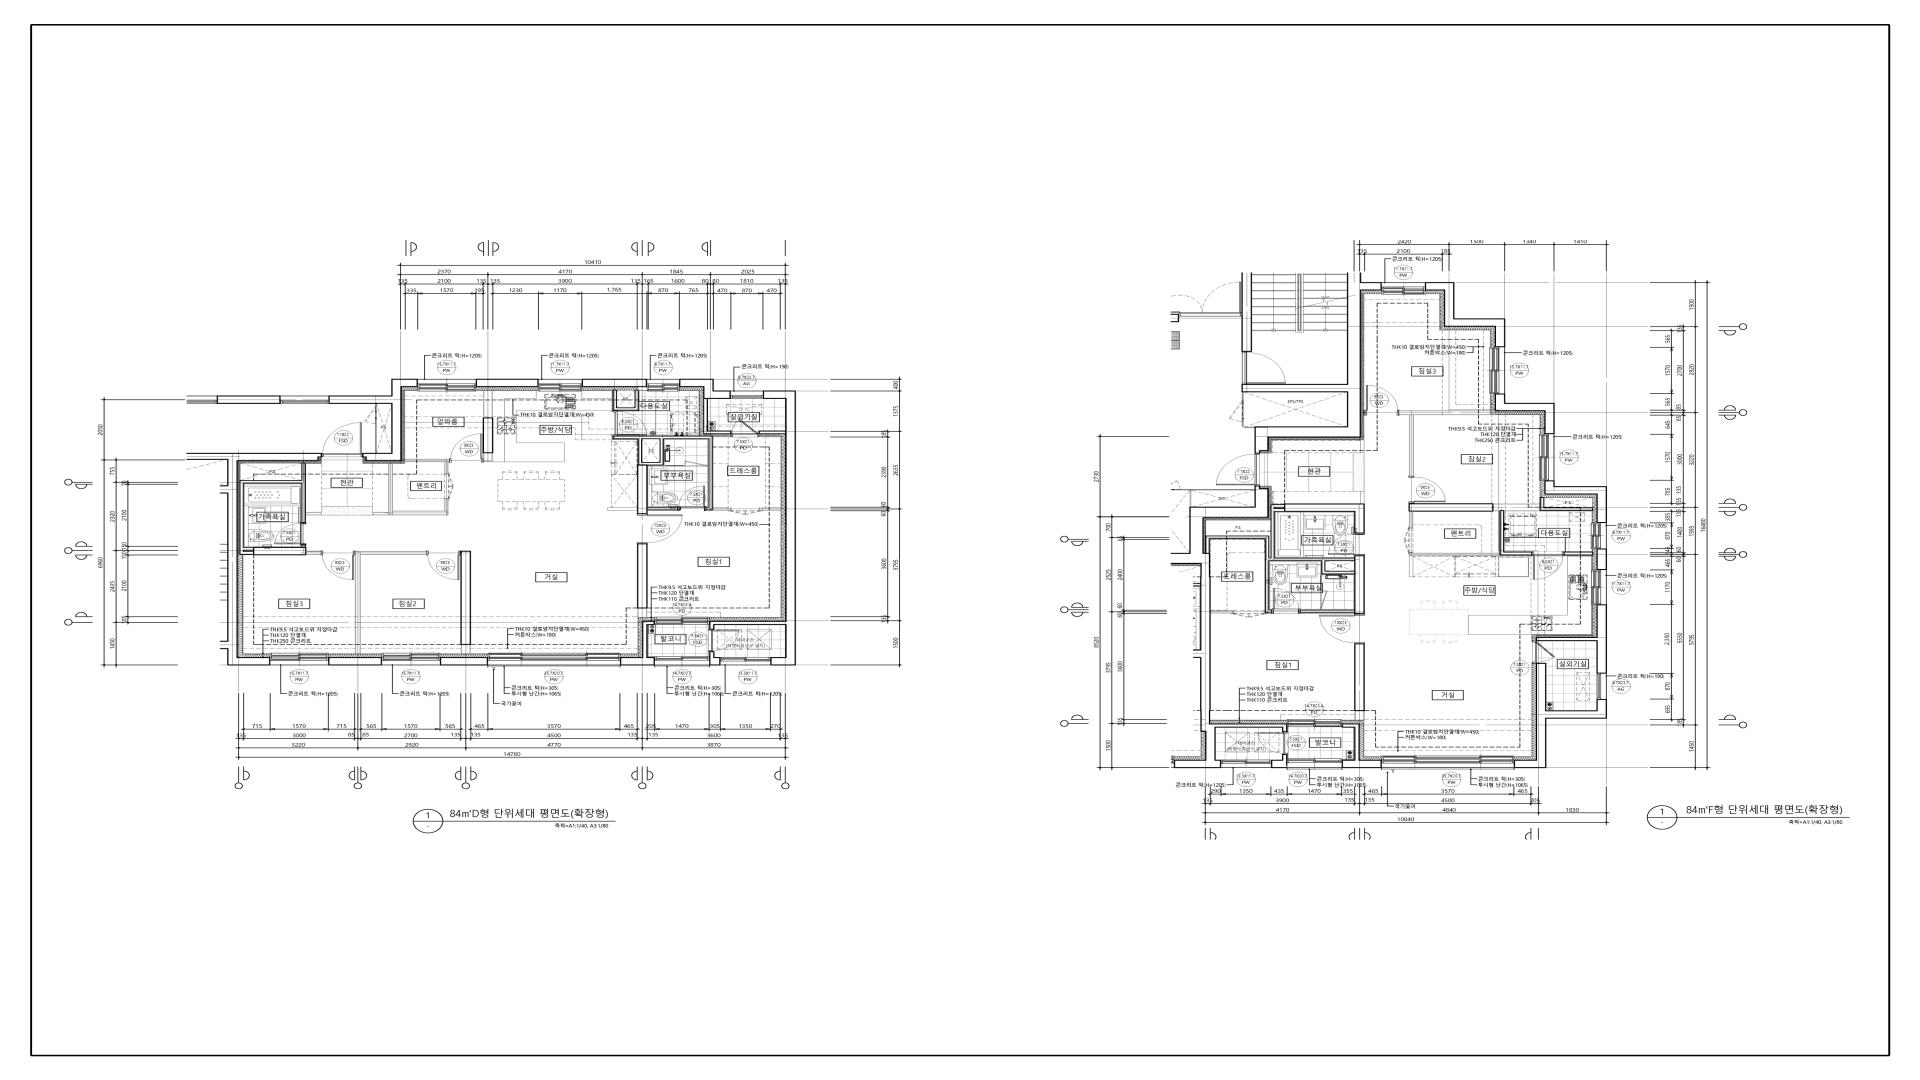door: (1179, 282, 1242, 316), (637, 513, 683, 545), (322, 422, 363, 458), (1216, 454, 1259, 485), (1242, 352, 1286, 384), (1319, 615, 1365, 644), (1365, 385, 1399, 415), (1408, 476, 1445, 504), (427, 551, 460, 580), (450, 434, 483, 463), (322, 551, 355, 580), (1532, 551, 1564, 580), (612, 411, 647, 436), (1328, 534, 1365, 555), (1271, 588, 1300, 615), (678, 485, 705, 512), (709, 629, 741, 651), (274, 522, 306, 545), (1257, 732, 1287, 754), (1532, 641, 1555, 663), (731, 419, 760, 436), (1229, 401, 1244, 422), (1403, 527, 1414, 553), (729, 508, 762, 516), (1233, 611, 1265, 618), (444, 473, 454, 498), (684, 460, 707, 467), (1320, 591, 1328, 609), (1171, 480, 1180, 491)
wall: (1189, 485, 1287, 769), (1241, 273, 1382, 454), (709, 390, 798, 666), (227, 452, 322, 666), (1205, 504, 1354, 613), (1514, 663, 1607, 769), (613, 435, 729, 513), (240, 463, 322, 555), (355, 551, 427, 654), (328, 378, 418, 462), (1399, 410, 1490, 476), (1425, 282, 1506, 347), (1536, 605, 1607, 674), (372, 464, 448, 516), (1300, 555, 1365, 615), (1284, 492, 1365, 534), (1408, 504, 1540, 527), (1544, 480, 1607, 524), (1495, 394, 1555, 434), (1410, 553, 1499, 578), (1342, 724, 1382, 769), (620, 621, 655, 666), (1499, 510, 1532, 556), (1180, 489, 1254, 506), (460, 551, 471, 654), (679, 378, 731, 400), (703, 398, 731, 434), (1242, 273, 1253, 352), (1354, 644, 1365, 720), (637, 545, 647, 617), (1540, 497, 1593, 512), (483, 390, 493, 462), (253, 545, 322, 555), (405, 459, 450, 473), (582, 378, 647, 388), (612, 390, 640, 411), (476, 378, 538, 388), (216, 396, 281, 404), (328, 657, 382, 666), (440, 657, 488, 666), (1271, 754, 1287, 769), (1597, 549, 1607, 570), (709, 651, 721, 666), (1564, 551, 1593, 555), (760, 430, 786, 434), (1242, 422, 1254, 429), (642, 435, 659, 439), (1171, 314, 1179, 322), (1211, 611, 1233, 613), (762, 508, 781, 510), (1361, 440, 1365, 452), (1242, 393, 1244, 401), (1364, 410, 1365, 415)
window: (488, 653, 620, 667), (1382, 756, 1514, 770), (418, 378, 476, 392), (382, 653, 440, 666), (270, 653, 328, 666), (1539, 434, 1555, 480), (1490, 347, 1505, 394), (1287, 758, 1342, 770), (538, 378, 582, 392), (655, 657, 709, 667), (1592, 570, 1607, 605), (1382, 282, 1425, 294), (721, 657, 771, 666), (1287, 720, 1342, 728), (1590, 524, 1607, 549), (655, 617, 709, 625), (647, 378, 679, 392), (1221, 760, 1271, 767), (281, 396, 328, 404), (1597, 674, 1607, 699), (731, 390, 764, 398), (187, 396, 216, 404)
